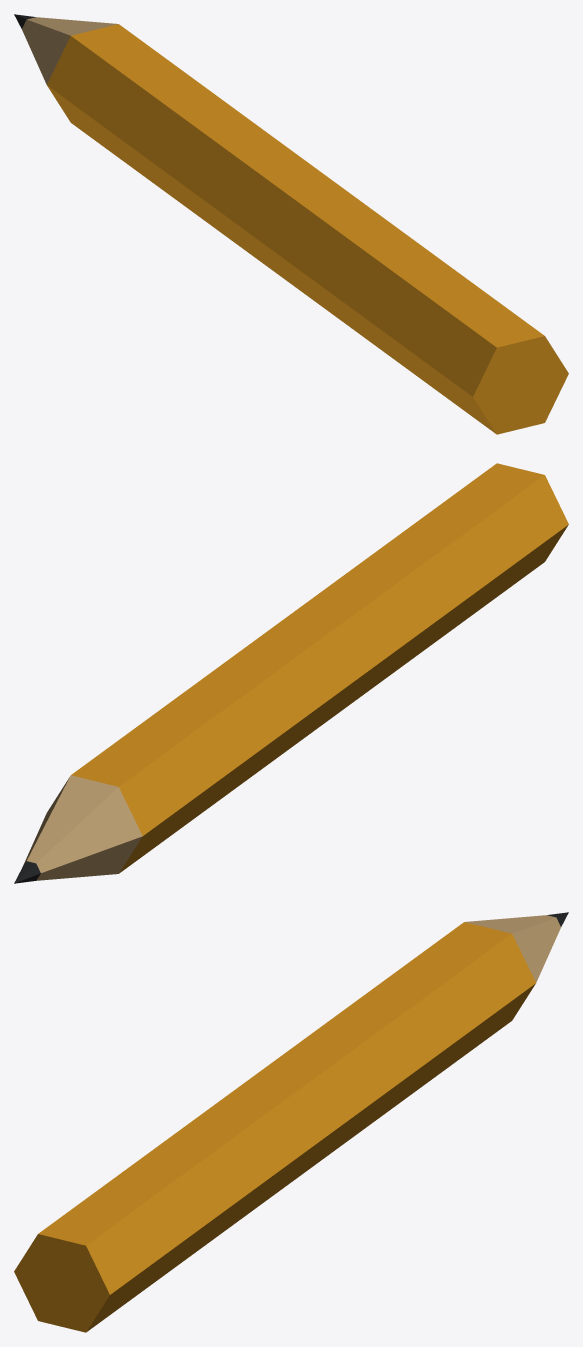
File: pencil.fbx
3 views of the same model, one above another, from view 1: azimuth 30°, elevation 25°; view 2: azimuth 150°, elevation 25°; view 3: azimuth 330°, elevation 25° (orthographic).
Visible parts, largest first — view 1: pencil; view 2: pencil; view 3: pencil.
Part boxes in pixels (<box>): pencil: <box>14,14,568,434</box>; pencil: <box>14,463,568,883</box>; pencil: <box>14,912,568,1332</box>.
Size of the model in its own units: 0.35 by 0.3031 by 3.2.
